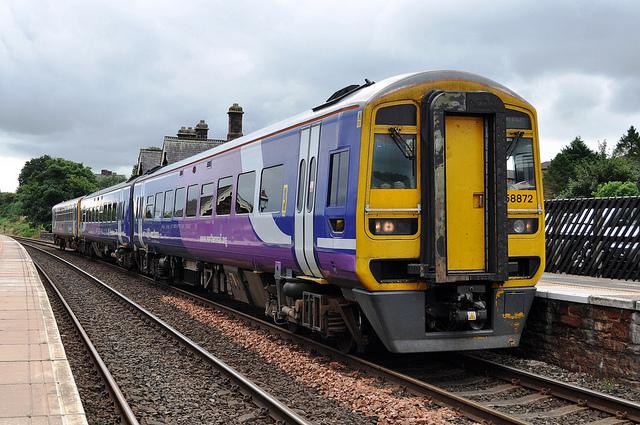Train: (47, 69, 545, 352)
